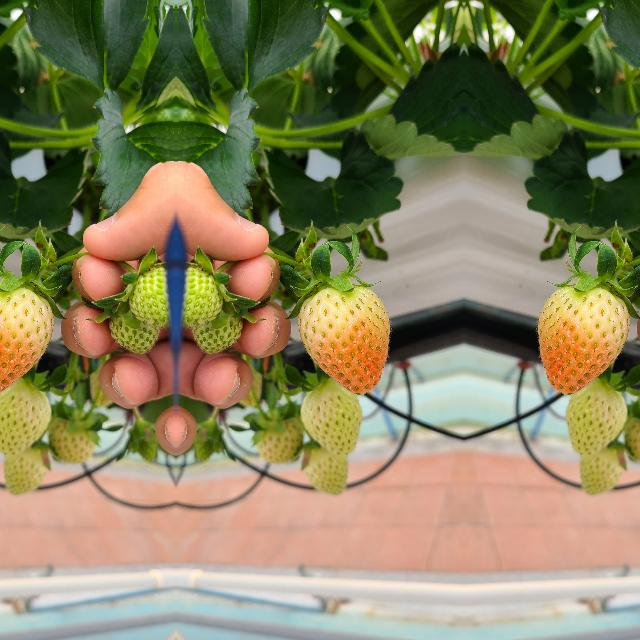Health_25: (294, 372, 362, 458), (564, 372, 632, 458), (0, 372, 56, 457), (175, 266, 229, 328), (121, 266, 175, 328), (188, 302, 246, 358), (104, 302, 162, 358), (252, 412, 306, 464), (300, 442, 352, 496), (44, 412, 98, 464), (574, 442, 626, 496), (0, 441, 50, 496), (619, 411, 640, 464)
Health_50: (297, 284, 388, 394), (538, 284, 628, 394), (0, 283, 52, 394)
